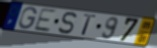7: (119, 17, 141, 43)
9: (101, 17, 120, 41)
E: (32, 7, 57, 33)
G: (18, 6, 38, 30)
S: (57, 11, 78, 36)
T: (80, 13, 98, 37)
